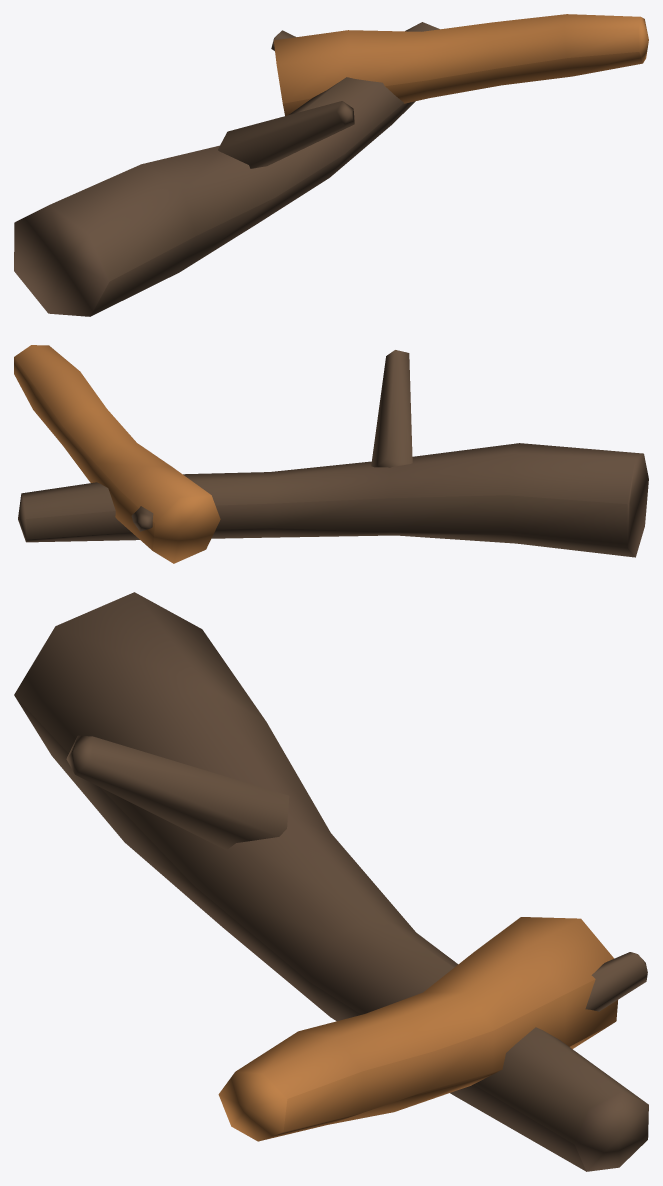
Rendered from prop_driftwood_b.glb.
3 renders of one model, top to bottom at view 1: azimuth 30°, elevation 25°; view 2: azimuth 150°, elevation 25°; view 3: azimuth 270°, elevation 25°, orthographic. The views are drawn at different scales.
Parts seen in each view (by area): view 1: prop_driftwood_b_mesh; view 2: prop_driftwood_b_mesh; view 3: prop_driftwood_b_mesh.
Part boxes in pixels (x1,y1,x2,y2): prop_driftwood_b_mesh: (14, 14, 648, 316); prop_driftwood_b_mesh: (14, 345, 648, 563); prop_driftwood_b_mesh: (14, 592, 648, 1171).
Size of the model in its own units: 1.83 by 0.412 by 0.9673.
